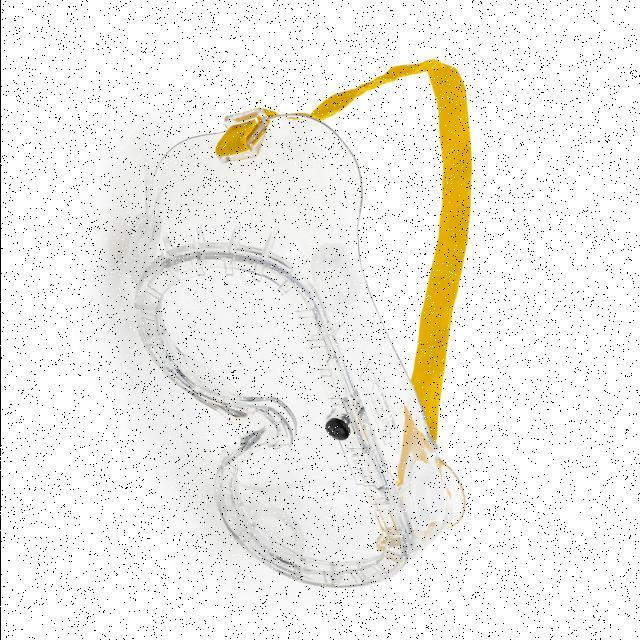Goggles: (113, 46, 477, 605)
